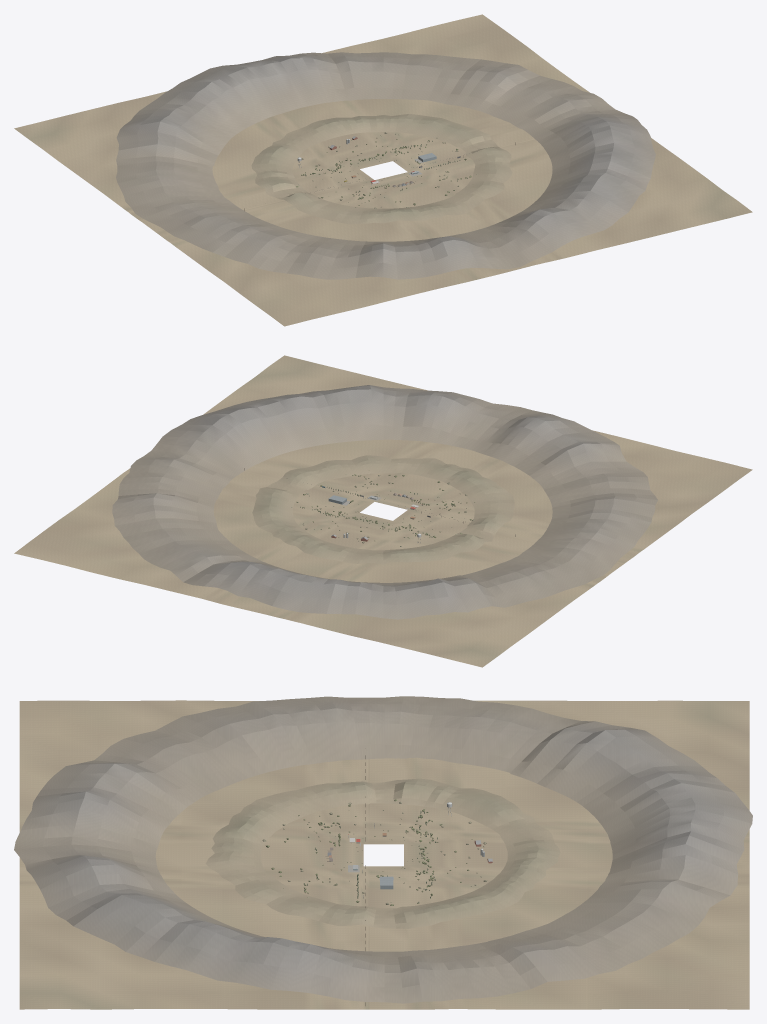
File: backdrop.glb
The picture shows the model from 3 angles, top to bottom: view 1: azimuth 30°, elevation 25°; view 2: azimuth 150°, elevation 25°; view 3: azimuth 270°, elevation 25°; orthographic projection. The views are drawn at different scales.
Visible parts, largest first — view 1: backdrop_hills, backdrop_terrain; view 2: backdrop_hills, backdrop_terrain; view 3: backdrop_hills, backdrop_terrain, backdrop_neighbours, backdrop_trees.
Part boxes in pixels (bbox=[...]): backdrop_hills: bbox=[116, 52, 655, 279]; backdrop_terrain: bbox=[14, 14, 752, 326]; backdrop_hills: bbox=[112, 385, 657, 619]; backdrop_terrain: bbox=[14, 355, 752, 667]; backdrop_hills: bbox=[14, 696, 752, 1003]; backdrop_terrain: bbox=[19, 700, 749, 1009]; backdrop_neighbours: bbox=[325, 802, 492, 898]; backdrop_trees: bbox=[304, 809, 438, 898].
Bounding box in the file's own units: 1803 × 97.73 × 1822.
1 material, 1 textured.
